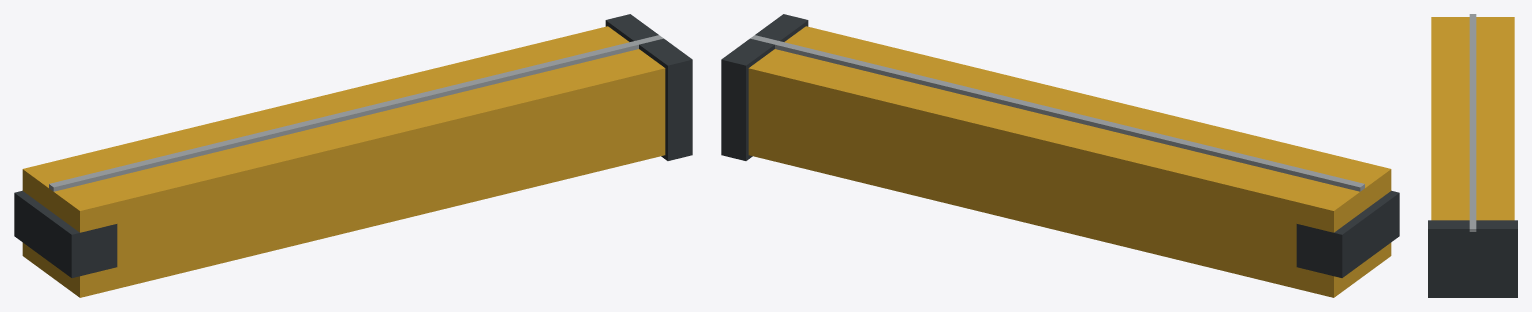
Rendered from mobile_crane_boom_base.glb.
3 renders of one model, left to right at view 1: azimuth 30°, elevation 25°; view 2: azimuth 150°, elevation 25°; view 3: azimuth 270°, elevation 25°, orthographic. The views are drawn at different scales.
Parts seen in each view (by area): view 1: body:compound; view 2: body:compound; view 3: body:compound.
Boxes of the visible parts, x1,y1,x2,y2 form: body:compound: (14,14,692,297); body:compound: (721,14,1399,297); body:compound: (1428,14,1517,297).
Size of the model in its own units: 4.66 by 0.6875 by 0.8125.
